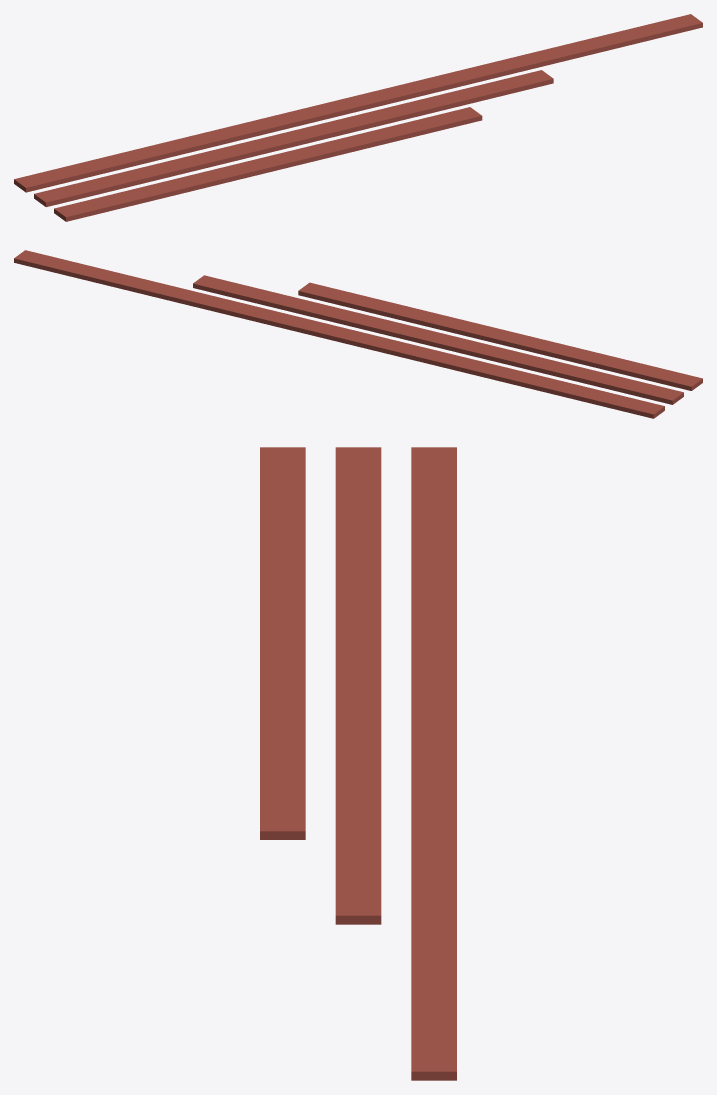
The model's file is deck-board-150x32_carvalho_v0.1.dae.
The picture shows the model from 3 angles, top to bottom: view 1: azimuth 30°, elevation 25°; view 2: azimuth 150°, elevation 25°; view 3: azimuth 270°, elevation 25°; orthographic projection. The views are drawn at different scales.
Visible parts, largest first — view 1: IB-225831_deck-board-150x32_carvalho_4880mm, IB-225821_deck-board-150x32_carvalho_3660mm, IB-272448_deck-board-150x32_carvalho_3000mm; view 2: IB-225831_deck-board-150x32_carvalho_4880mm, IB-225821_deck-board-150x32_carvalho_3660mm, IB-272448_deck-board-150x32_carvalho_3000mm; view 3: IB-225831_deck-board-150x32_carvalho_4880mm, IB-225821_deck-board-150x32_carvalho_3660mm, IB-272448_deck-board-150x32_carvalho_3000mm.
Part boxes in pixels (box(x1,y1,x2,y2)): IB-225831_deck-board-150x32_carvalho_4880mm: box(14, 14, 702, 192); IB-225821_deck-board-150x32_carvalho_3660mm: box(34, 70, 553, 207); IB-272448_deck-board-150x32_carvalho_3000mm: box(54, 107, 482, 221); IB-225831_deck-board-150x32_carvalho_4880mm: box(14, 250, 664, 418); IB-225821_deck-board-150x32_carvalho_3660mm: box(193, 275, 683, 404); IB-272448_deck-board-150x32_carvalho_3000mm: box(298, 282, 702, 390); IB-225831_deck-board-150x32_carvalho_4880mm: box(411, 447, 456, 1080); IB-225821_deck-board-150x32_carvalho_3660mm: box(335, 447, 381, 924); IB-272448_deck-board-150x32_carvalho_3000mm: box(260, 447, 305, 839).
Bounding box in the file's own units: 4880 × 650 × 32.
